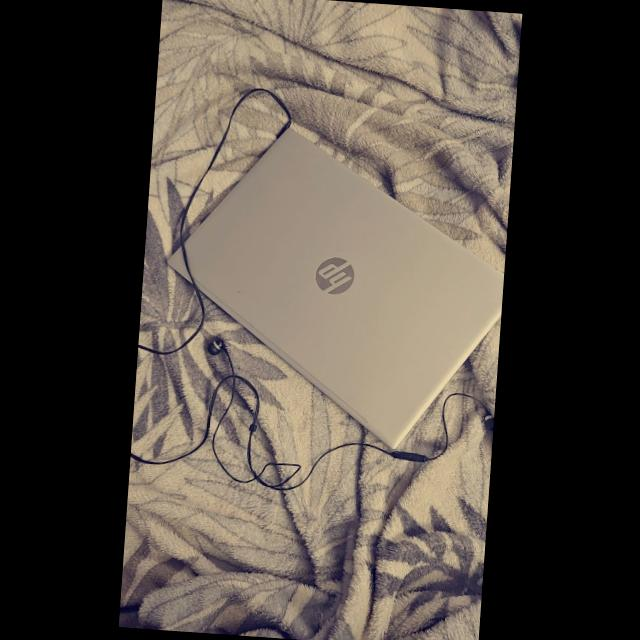laptop: (185, 128, 502, 447)
